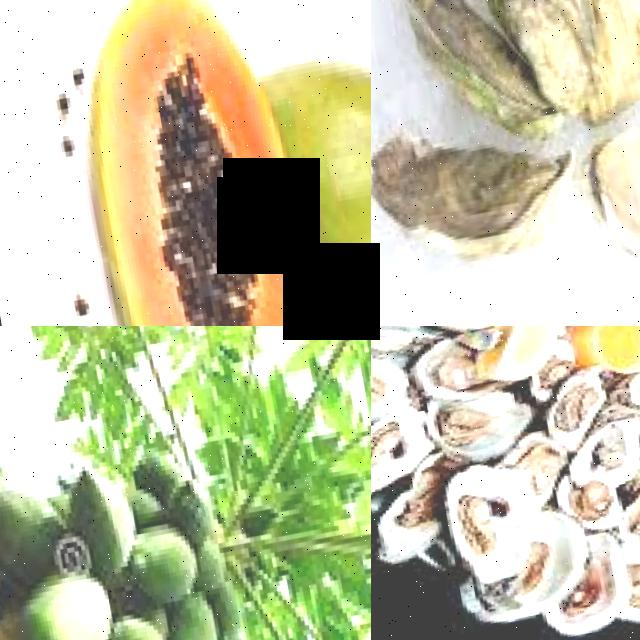lemon: (479, 326, 568, 388)
oysters: (371, 123, 580, 286), (469, 0, 610, 124), (435, 461, 538, 590), (585, 106, 640, 306), (565, 0, 640, 127), (423, 384, 534, 467), (371, 405, 439, 506), (563, 417, 640, 496), (537, 371, 615, 445), (371, 335, 412, 429)
pawpaw: (65, 0, 343, 326), (270, 17, 371, 326), (66, 458, 145, 576), (8, 573, 121, 640)
